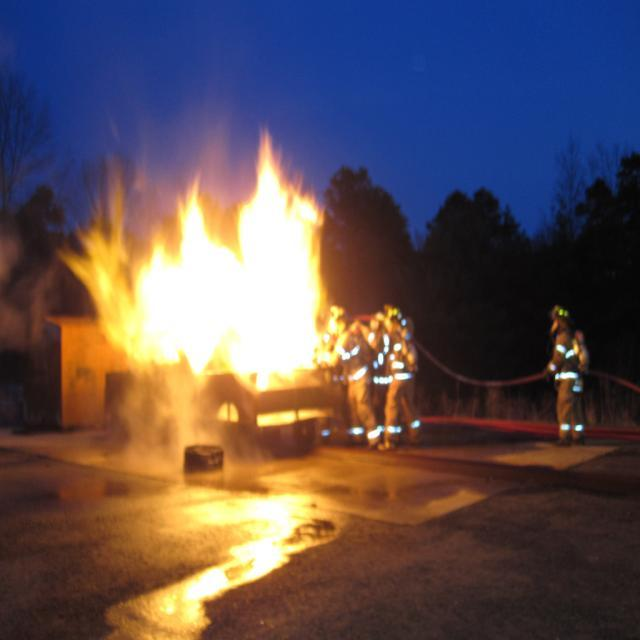Fire: (242, 202, 316, 361), (125, 250, 225, 365)
